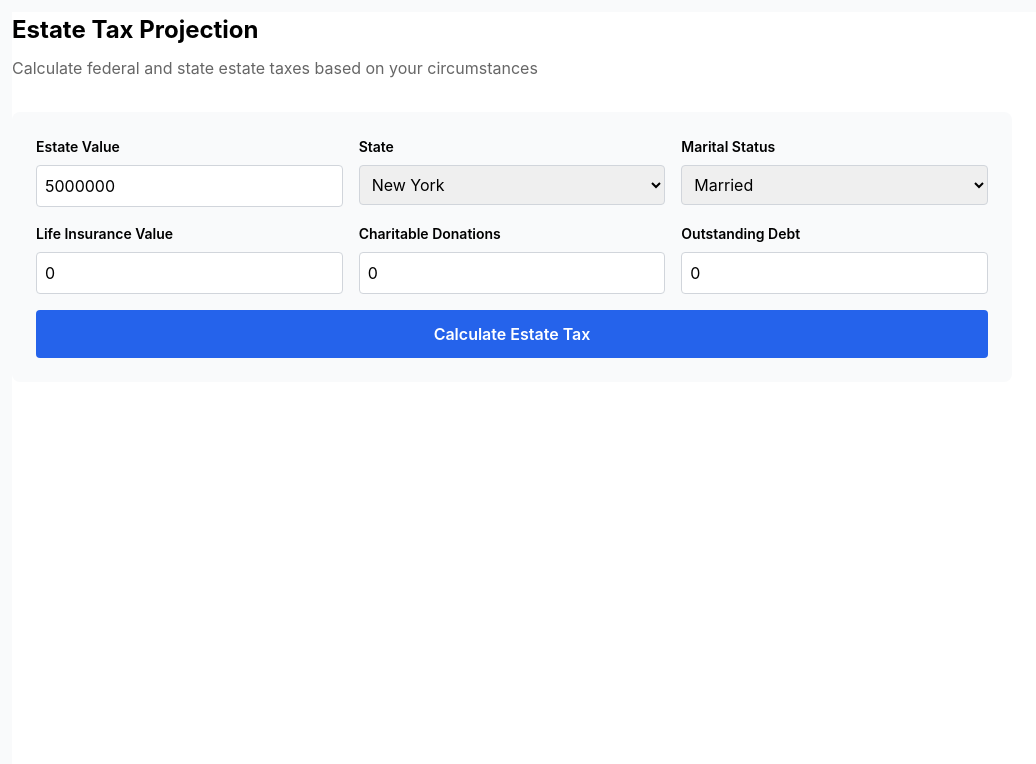
Test case: Estate Tax Projection › calculates estate tax successfully
Step 1. Click the button "Calculate Estate Tax" → click(512, 334), box x1=36 y1=310 x2=988 y2=358
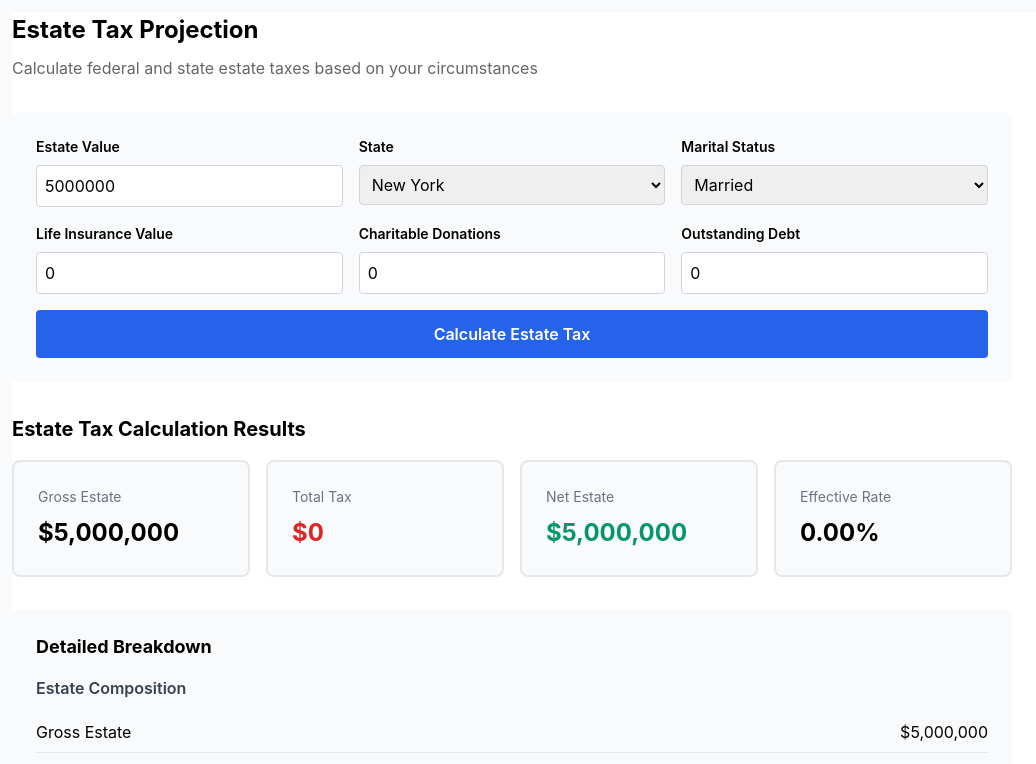
Expected: the heading "Estate Tax Calculation Results" is shown, x1=12 y1=417 x2=306 y2=441
Expected: the 1st text "$5,000,000" is shown, x1=38 y1=518 x2=179 y2=547
